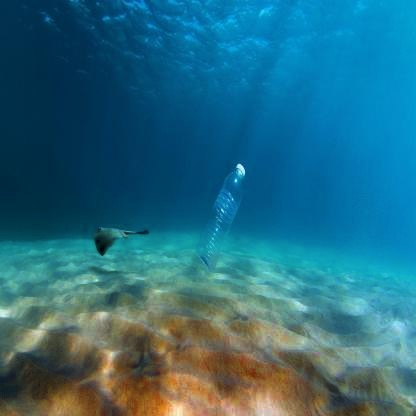pbottle: (193, 146, 251, 282)
